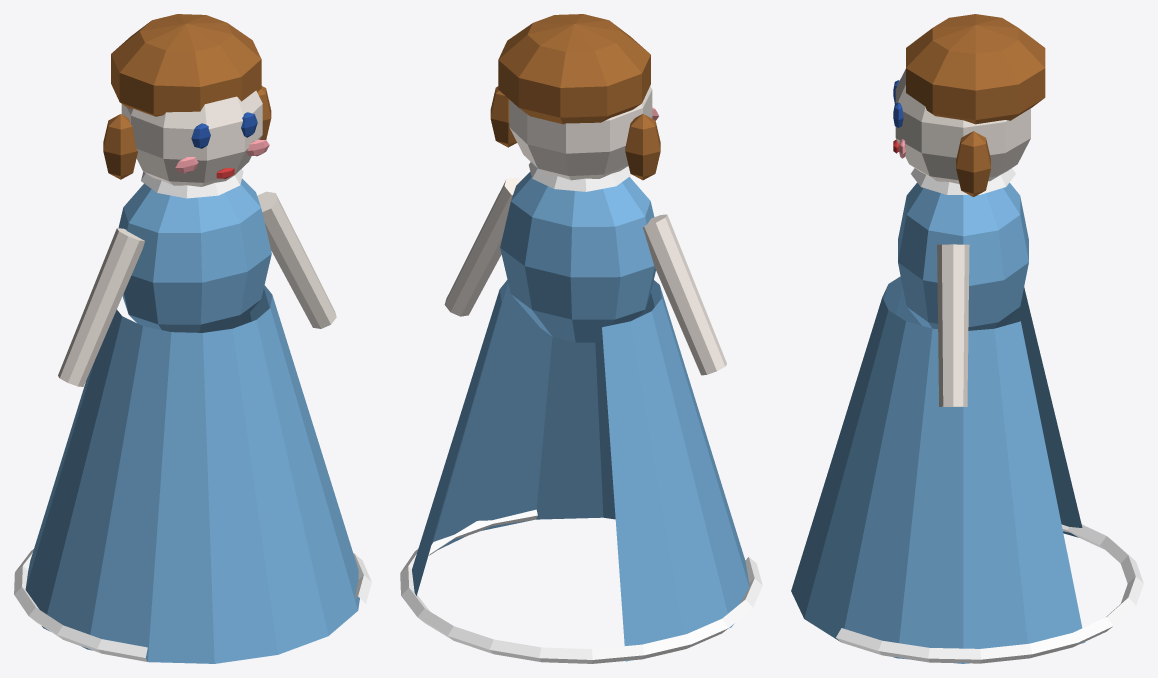
File: giant_doll.glb
3 renders of one model, left to right at view 1: azimuth 30°, elevation 25°; view 2: azimuth 150°, elevation 25°; view 3: azimuth 270°, elevation 25°, orthographic.
Parts seen in each view (by area): view 1: dress_giant_dress, torso_giant_dress, hair_doll_curls, arms_porcelain, head_porcelain, hem_doll_lace, curls_doll_curls, collar_doll_lace; view 2: dress_giant_dress, torso_giant_dress, hair_doll_curls, arms_porcelain, hem_doll_lace, head_porcelain, curls_doll_curls (×2), collar_doll_lace; view 3: dress_giant_dress, torso_giant_dress, hair_doll_curls, head_porcelain, hem_doll_lace, arms_porcelain, curls_doll_curls, collar_doll_lace.
Boxes of the visible parts, left/top/right/bottom form: dress_giant_dress: left=25, top=285, right=359, bottom=663; torso_giant_dress: left=118, top=178, right=271, bottom=332; hair_doll_curls: left=111, top=14, right=261, bottom=116; arms_porcelain: left=58, top=191, right=336, bottom=386; head_porcelain: left=121, top=90, right=262, bottom=186; hem_doll_lace: left=14, top=549, right=371, bottom=661; curls_doll_curls: left=103, top=114, right=137, bottom=179; collar_doll_lace: left=141, top=169, right=243, bottom=198; dress_giant_dress: left=412, top=280, right=749, bottom=661; torso_giant_dress: left=500, top=172, right=655, bottom=342; hair_doll_curls: left=498, top=14, right=650, bottom=124; arms_porcelain: left=444, top=177, right=726, bottom=375; hem_doll_lace: left=400, top=509, right=762, bottom=663; head_porcelain: left=509, top=86, right=652, bottom=180; curls_doll_curls (×2): left=490, top=86, right=660, bottom=180; collar_doll_lace: left=529, top=162, right=631, bottom=191; dress_giant_dress: left=791, top=276, right=1085, bottom=663; torso_giant_dress: left=898, top=182, right=1028, bottom=330; hair_doll_curls: left=906, top=14, right=1045, bottom=124; head_porcelain: left=895, top=69, right=1030, bottom=183; hem_doll_lace: left=836, top=524, right=1143, bottom=663; arms_porcelain: left=937, top=244, right=969, bottom=406; curls_doll_curls: left=956, top=131, right=990, bottom=196; collar_doll_lace: left=911, top=168, right=1015, bottom=194.
Bounding box in the file's own units: 1.77 × 3.08 × 1.74.
